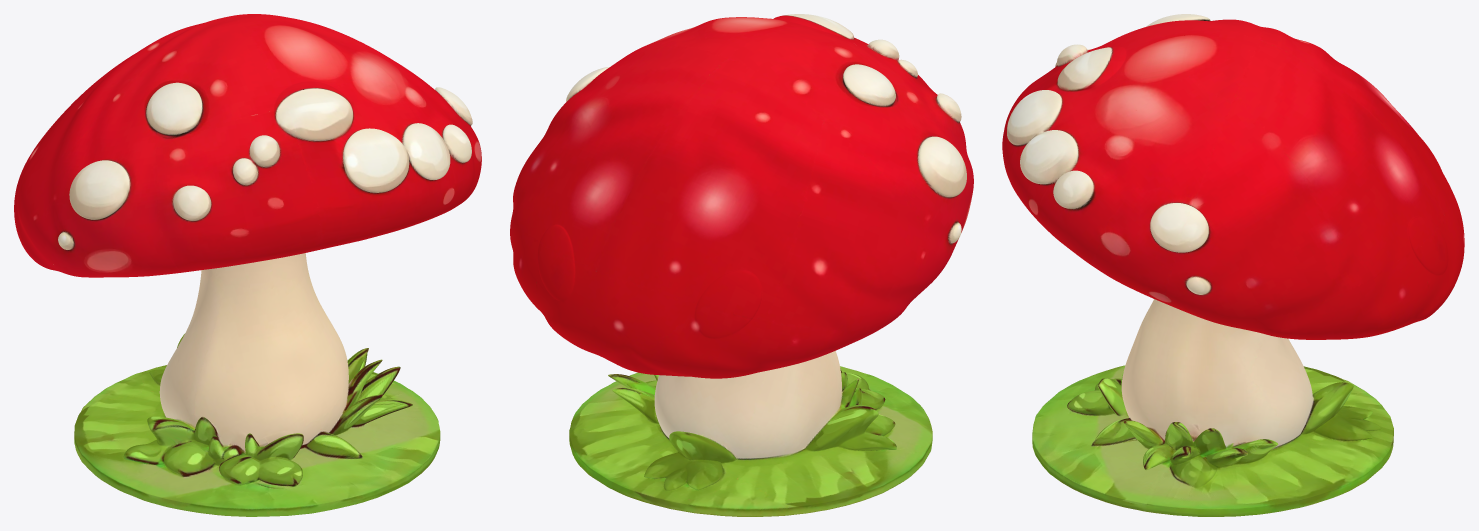
Rendered from Fungo.glb.
3 renders of one model, left to right at view 1: azimuth 30°, elevation 25°; view 2: azimuth 150°, elevation 25°; view 3: azimuth 270°, elevation 25°, orthographic.
Size of the model in its own units: 1.9 by 1.83 by 1.89.
1 material, 1 textured.
